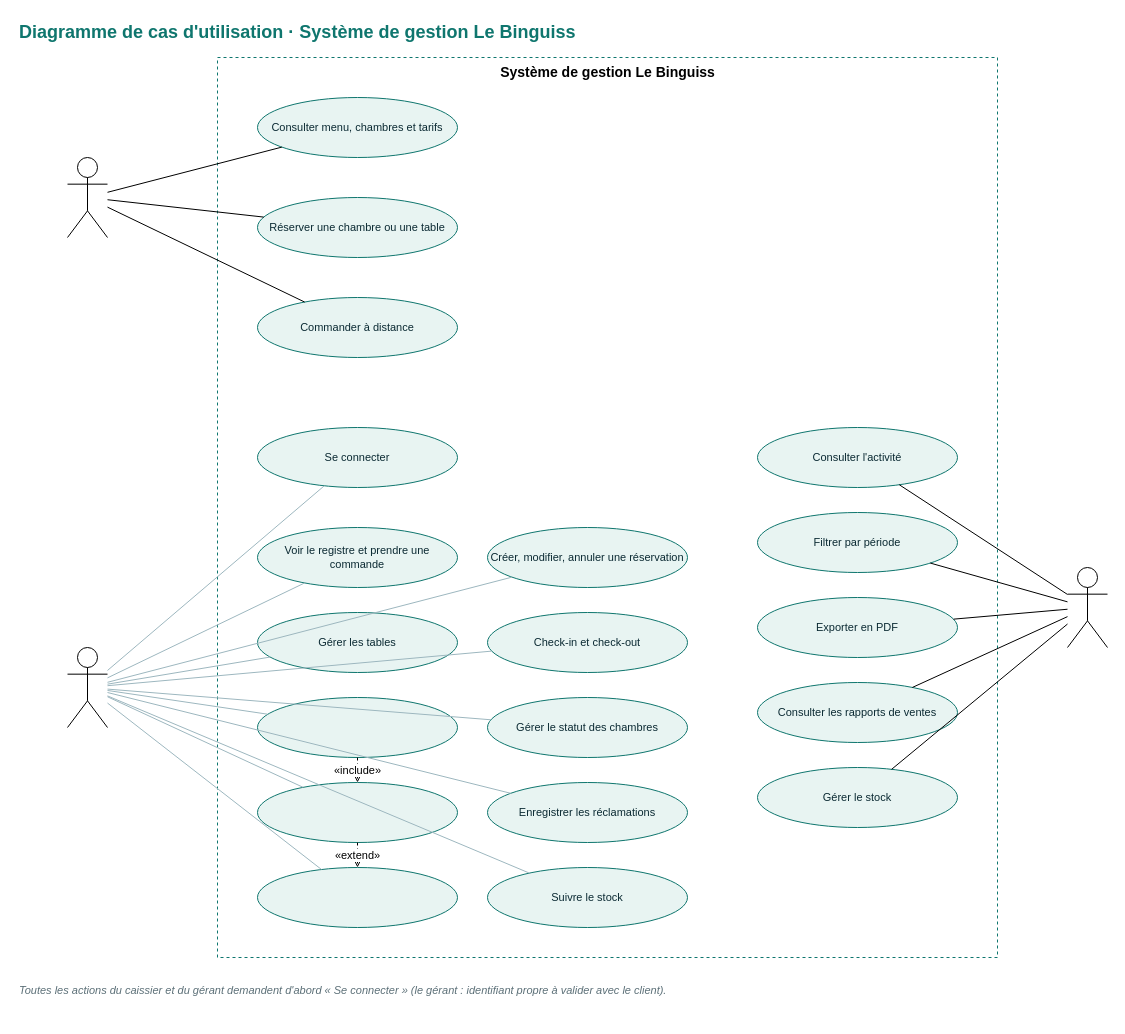
The diagram is 1125 pixels wide and 1034 high, and some of its shapes have lost their labels. The shapes that lost their labels are listed below. From the top down, each one's centre as x and y in pixels, then its label:
the point at 87,197: Client
the point at 1087,607: Gérant
the point at 87,687: Caissier
the point at 357,727: Encaisser un paiement
the point at 357,812: Faire la facture
the point at 357,897: Imprimer la facture
